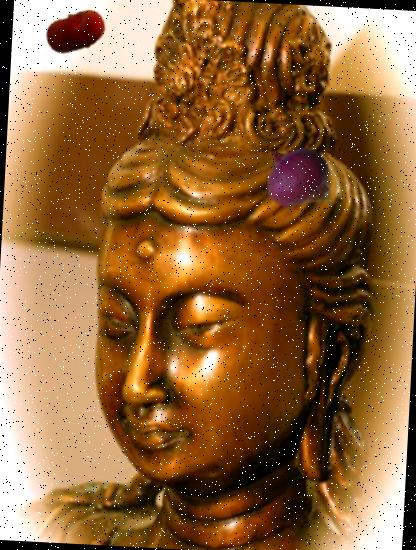Nectarine: (44, 0, 108, 63)
Onion: (258, 136, 343, 222)
